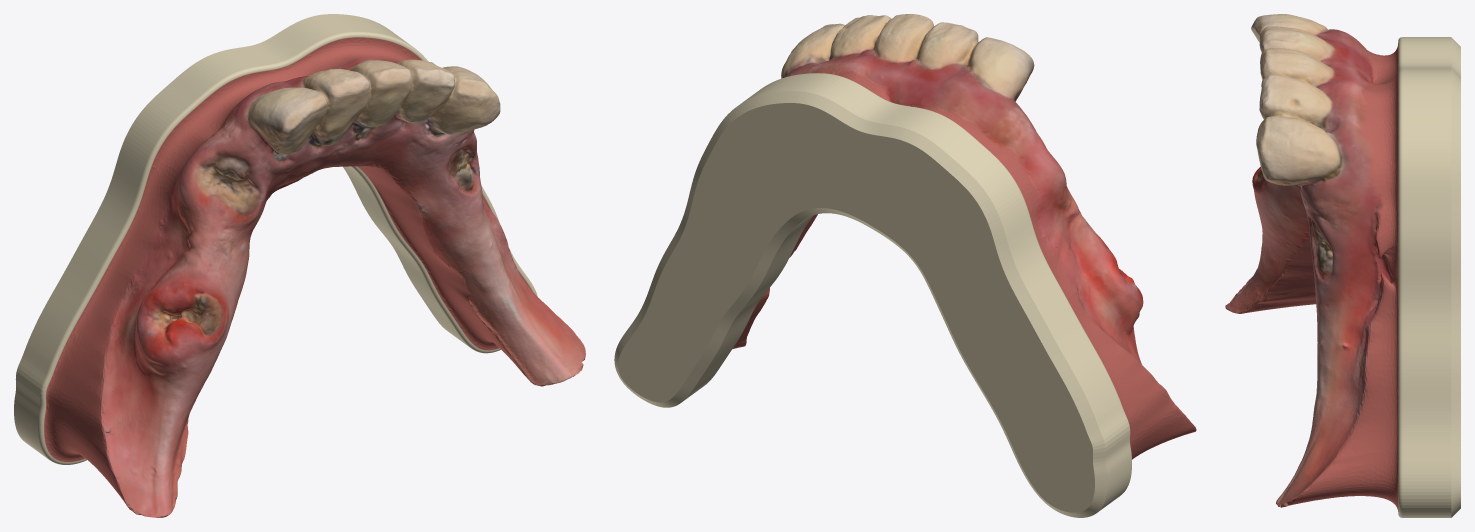
The model's file is lower-7.glb.
3 renders of one model, left to right at view 1: azimuth 30°, elevation 25°; view 2: azimuth 150°, elevation 25°; view 3: azimuth 270°, elevation 25°, orthographic. The views are drawn at different scales.
Visible parts, largest first — view 1: lower-7; view 2: lower-7; view 3: lower-7.
Boxes of the visible parts, x1,y1,x2,y2 form: lower-7: (14, 14, 585, 517); lower-7: (614, 14, 1196, 517); lower-7: (1225, 14, 1460, 517).
Size of the model in its own units: 61.62 by 45.07 by 24.95.
